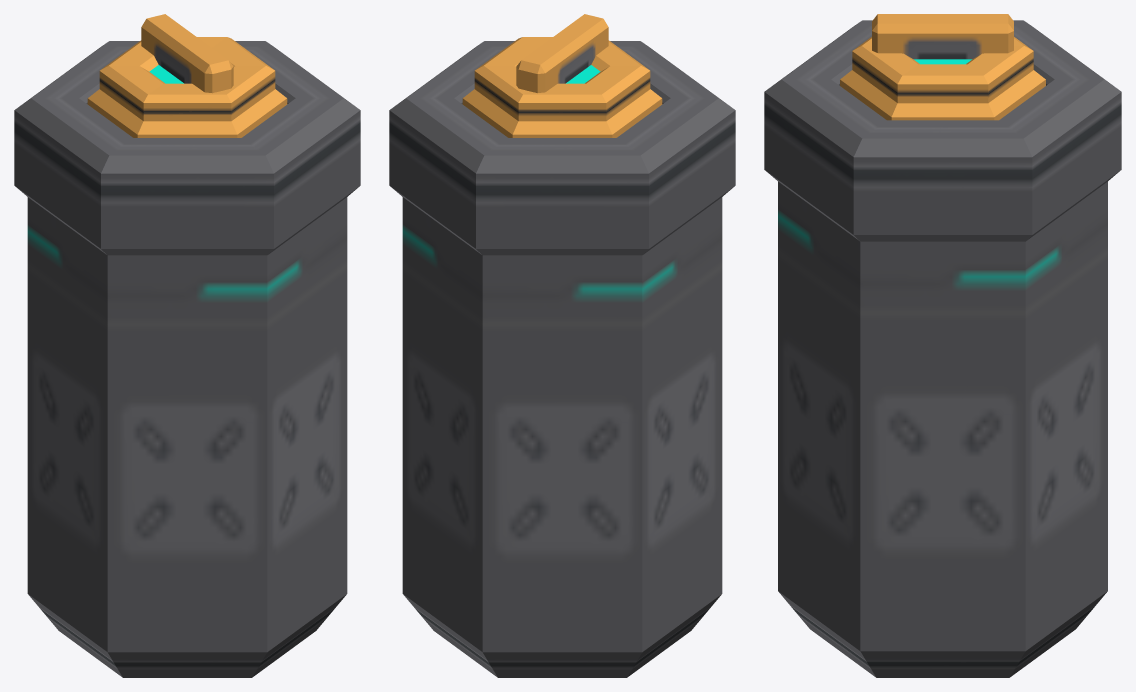
The model's file is SM_Prop_Power_Terminal_02.fbx.
3 renders of one model, left to right at view 1: azimuth 30°, elevation 25°; view 2: azimuth 150°, elevation 25°; view 3: azimuth 270°, elevation 25°, orthographic. The views are drawn at different scales.
Visible parts, largest first — view 1: SM_Prop_Power_Terminal_02; view 2: SM_Prop_Power_Terminal_02; view 3: SM_Prop_Power_Terminal_02.
Part boxes in pixels (x1,y1,x2,y2): SM_Prop_Power_Terminal_02: (14, 14, 360, 677); SM_Prop_Power_Terminal_02: (389, 14, 735, 677); SM_Prop_Power_Terminal_02: (764, 14, 1121, 677).
Size of the model in its own units: 26.02 by 56.64 by 30.05.
